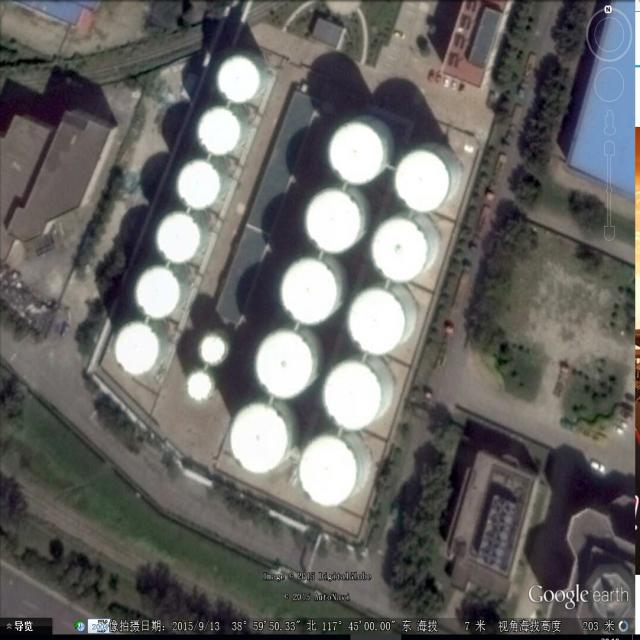oiltank: (297, 432, 376, 511), (341, 284, 422, 359), (248, 326, 328, 401), (319, 358, 398, 433), (226, 401, 302, 476), (366, 212, 444, 284), (392, 141, 466, 216), (321, 115, 395, 189), (276, 253, 348, 328), (299, 188, 375, 255), (110, 322, 174, 378), (152, 211, 211, 267), (131, 267, 190, 322), (192, 105, 250, 158), (174, 159, 232, 212), (215, 53, 264, 105)
